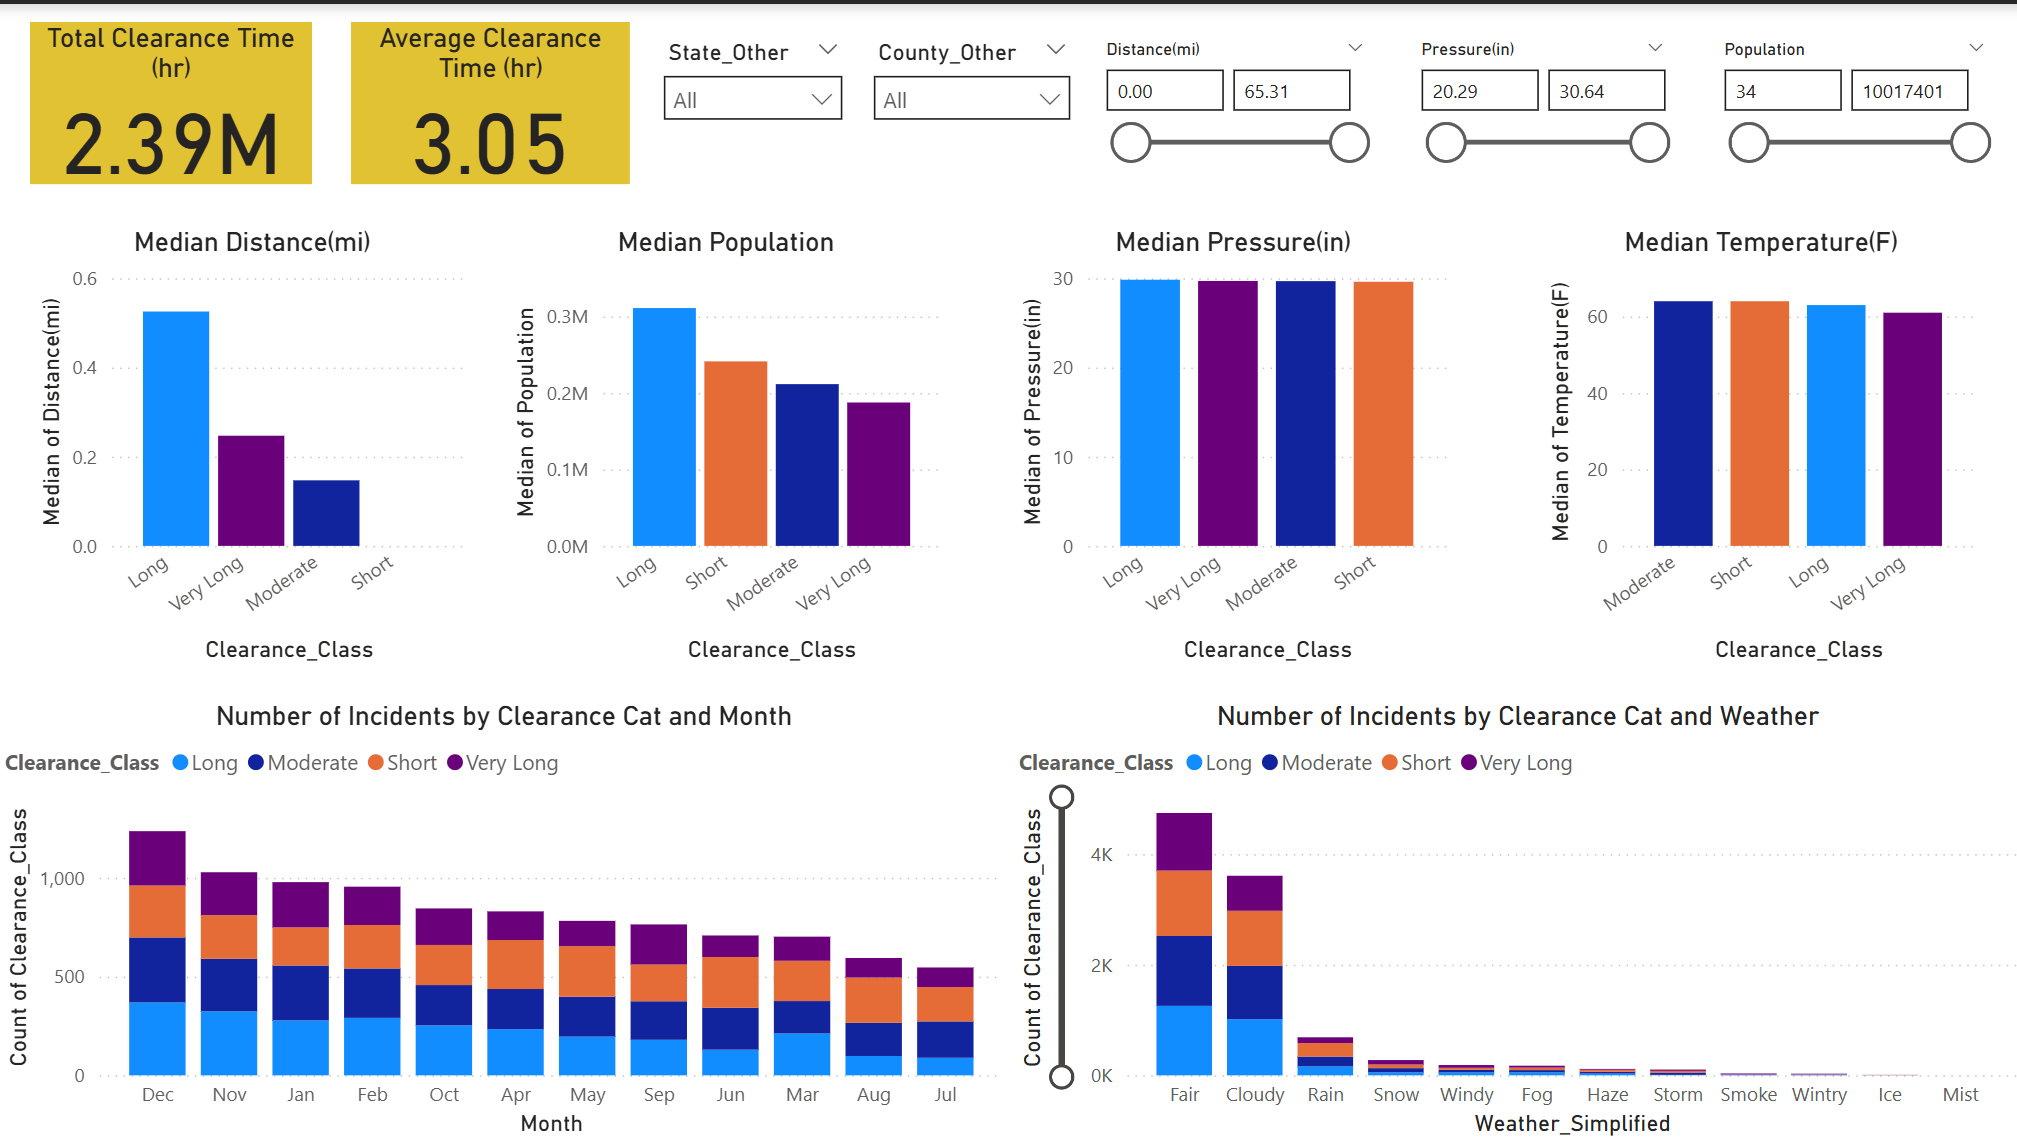

Layout of this report page (visuals, bound fields, positions):
{"tool":"powerbi","page":{"name":"Main Feature Breakdown","canvas":[1280,720],"ordinal":3},"visuals":[{"type":"columnChart","title":"Median Distance(mi)","fields":{"Category":["US_Accidents_For_Dashboard.Clearance_Class"],"Y":["Median(US_Accidents_For_Dashboard.Distance(mi))"]},"box":[20.8,140.1,280.2,280.2],"z":0},{"type":"columnChart","title":"Median Population","fields":{"Category":["US_Accidents_For_Dashboard.Clearance_Class"],"Y":["Median(US_Accidents_For_Dashboard.Population)"]},"box":[320,140.1,280.2,280.2],"z":1000},{"type":"columnChart","title":"Median Pressure(in)","fields":{"Category":["US_Accidents_For_Dashboard.Clearance_Class"],"Y":["Median(US_Accidents_For_Dashboard.Pressure(in))"]},"box":[640,140.1,280.2,280.2],"z":2000},{"type":"columnChart","title":"Median Temperature(F)","fields":{"Category":["US_Accidents_For_Dashboard.Clearance_Class"],"Y":["Median(US_Accidents_For_Dashboard.Temperature(F))"]},"box":[973.3,140.1,280.2,280.2],"z":3000},{"type":"columnChart","title":"Number of Incidents by Clearance Cat and Month","fields":{"Category":["US_Accidents_For_Dashboard.Month"],"Y":["CountNonNull(US_Accidents_For_Dashboard.Clearance_Class)"],"Series":["US_Accidents_For_Dashboard.Clearance_Class"]},"box":[0,439.3,640,280.2],"z":4000},{"type":"columnChart","title":"Number of Incidents by Clearance Cat and Weather","fields":{"Category":["US_Accidents_For_Dashboard.Weather_Simplified"],"Y":["CountNonNull(US_Accidents_For_Dashboard.Clearance_Class)"],"Series":["US_Accidents_For_Dashboard.Clearance_Class"]},"box":[640,439.3,640,280.2],"z":5000},{"type":"slicer","fields":{"Values":["US_Accidents_For_Dashboard.State_Other"]},"box":[410.9,17,132.5,68.2],"z":6000},{"type":"card","title":"Total Clearance Time (hr)","fields":{"Values":["Sum(US_Accidents_For_Dashboard.Clearance_Time(hr))"]},"box":[20.8,11.4,178,98.5],"z":7000},{"type":"card","title":"Average Clearance Time (hr)","fields":{"Values":["Median(US_Accidents_For_Dashboard.Clearance_Time(hr))"]},"box":[223.4,11.4,176.1,98.5],"z":8000},{"type":"slicer","fields":{"Values":["US_Accidents_For_Dashboard.County_Other"]},"box":[543.4,17,143.9,70.1],"z":9000},{"type":"slicer","fields":{"Values":["US_Accidents_For_Dashboard.Population"]},"box":[1077.4,17,189.3,109.8],"z":10000},{"type":"slicer","fields":{"Values":["US_Accidents_For_Dashboard.Distance(mi)"]},"box":[687.3,17,187.5,125],"z":11000},{"type":"slicer","fields":{"Values":["US_Accidents_For_Dashboard.Pressure(in)"]},"box":[886.2,17,178,96.6],"z":11001}]}

Visuals, with their boxes in screenshot pixels (x1, y1, x2, y2), scaled from the page's 1280x720 canvas onto the 2017x1145 screenshot:
"Median Distance(mi)" columnChart: Rect(33, 223, 474, 668)
"Median Population" columnChart: Rect(504, 223, 946, 668)
"Median Pressure(in)" columnChart: Rect(1008, 223, 1450, 668)
"Median Temperature(F)" columnChart: Rect(1534, 223, 1975, 668)
"Number of Incidents by Clearance Cat and Month" columnChart: Rect(0, 699, 1008, 1144)
"Number of Incidents by Clearance Cat and Weather" columnChart: Rect(1008, 699, 2016, 1144)
slicer - US_Accidents_For_Dashboard.State_Other: Rect(647, 27, 856, 135)
"Total Clearance Time (hr)" card: Rect(33, 18, 313, 175)
"Average Clearance Time (hr)" card: Rect(352, 18, 630, 175)
slicer - US_Accidents_For_Dashboard.County_Other: Rect(856, 27, 1083, 139)
slicer - US_Accidents_For_Dashboard.Population: Rect(1698, 27, 1996, 202)
slicer - US_Accidents_For_Dashboard.Distance(mi): Rect(1083, 27, 1378, 226)
slicer - US_Accidents_For_Dashboard.Pressure(in): Rect(1396, 27, 1677, 181)
